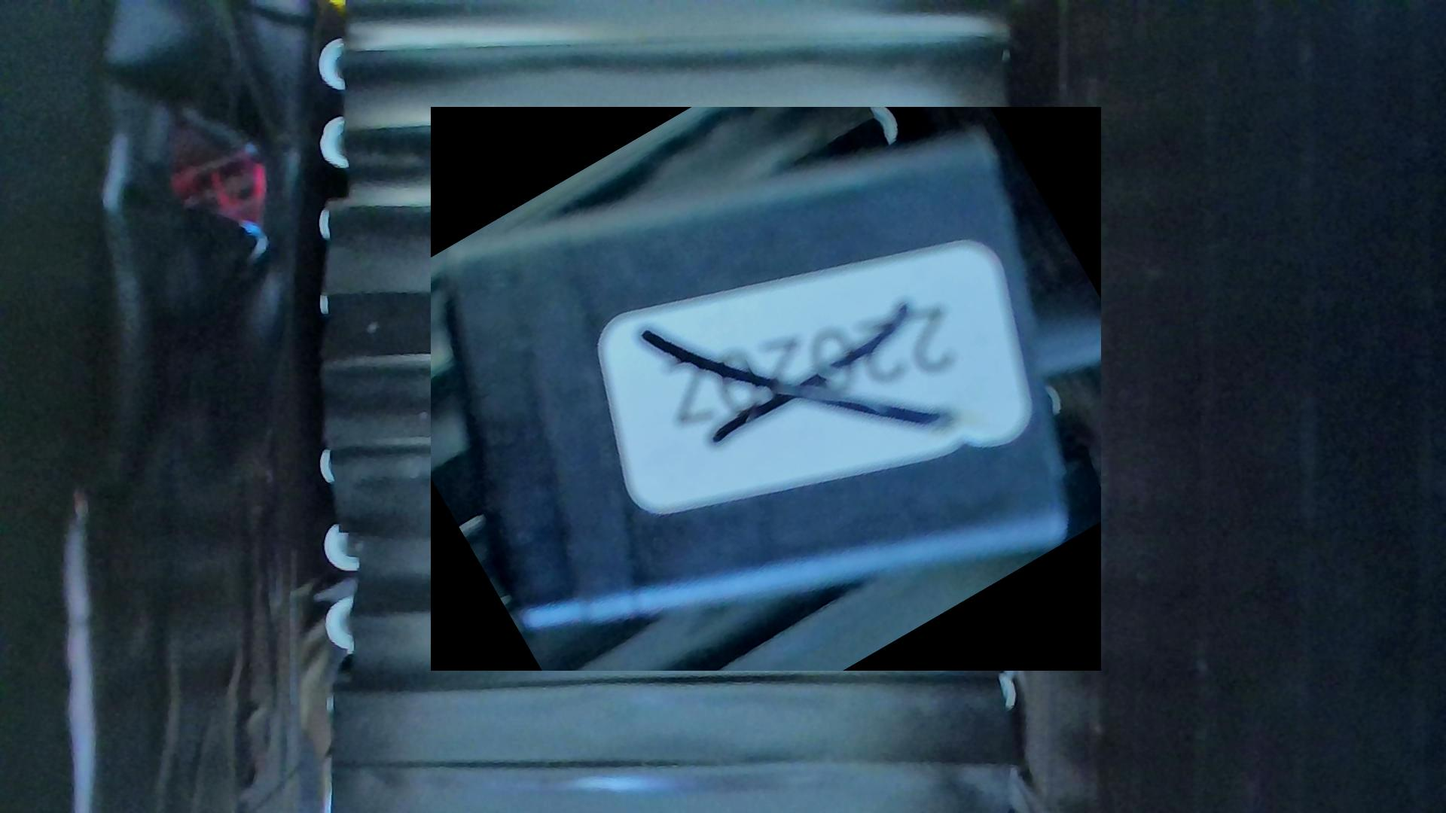motor: (431, 107, 1101, 671)
